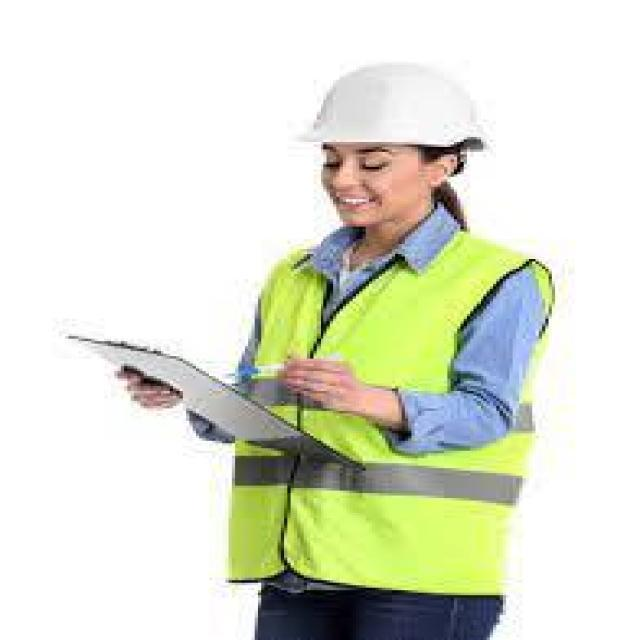safety_helmet: (235, 232, 558, 596)
